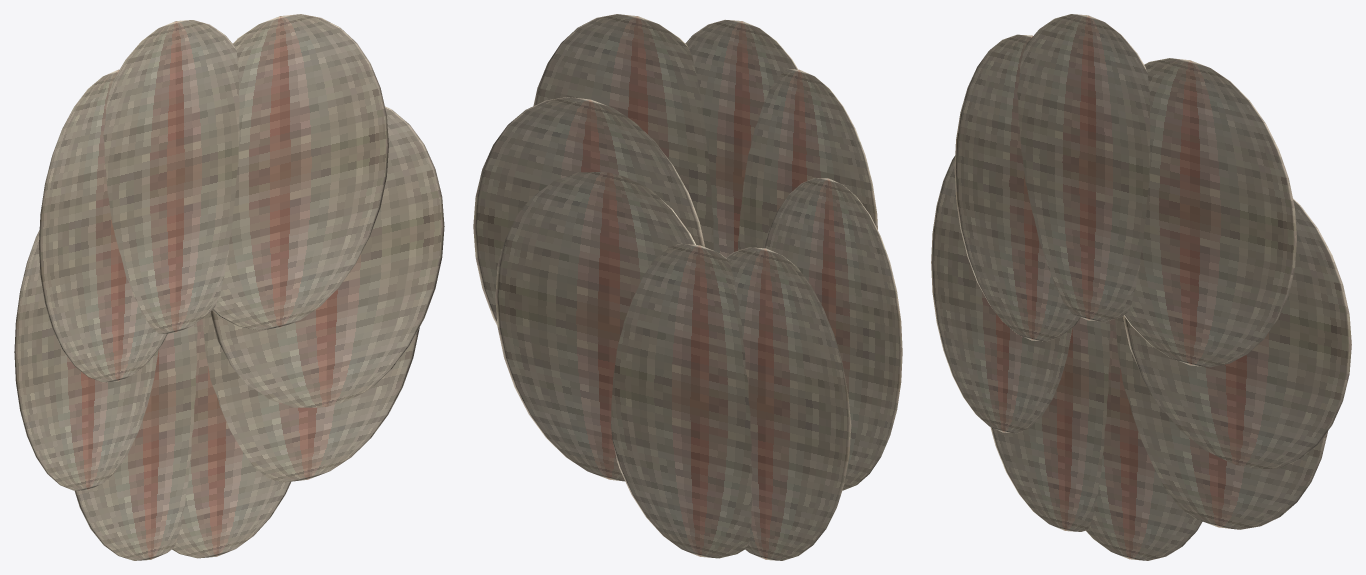
File: gear-shadow.glb
3 renders of one model, left to right at view 1: azimuth 30°, elevation 25°; view 2: azimuth 150°, elevation 25°; view 3: azimuth 330°, elevation 25°, orthographic. The views are drawn at different scales.
Parts seen in each view (by area): view 1: fragment (×8); view 2: fragment (×8); view 3: fragment (×8).
Part boxes in pixels (x1,y1,x2,y2): fragment (×8): [14, 14, 444, 560]; fragment (×8): [473, 14, 902, 560]; fragment (×8): [931, 14, 1351, 560].
Size of the model in its own units: 0.4543 by 0.5515 by 0.00206.
Materials: 1 (1 with a texture image).
